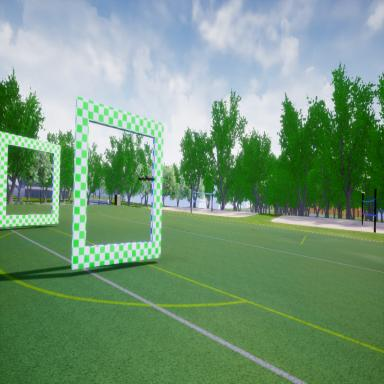gate: (70, 93, 166, 271), (0, 129, 60, 228)
